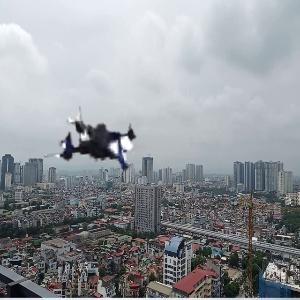drone: (34, 96, 169, 231)
